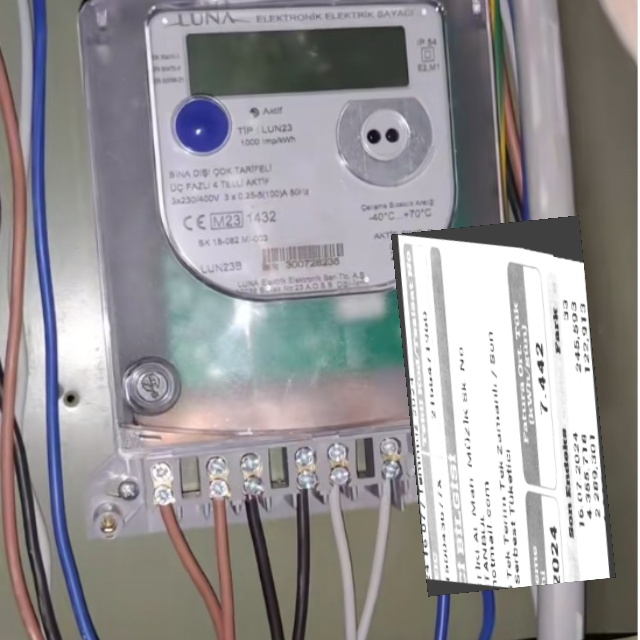electricity-bill: (390, 215, 615, 597)
